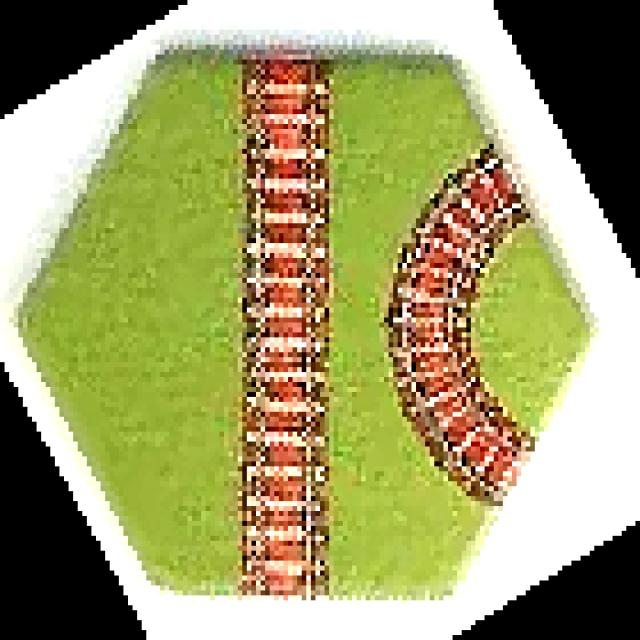4_2: (14, 37, 600, 601)
